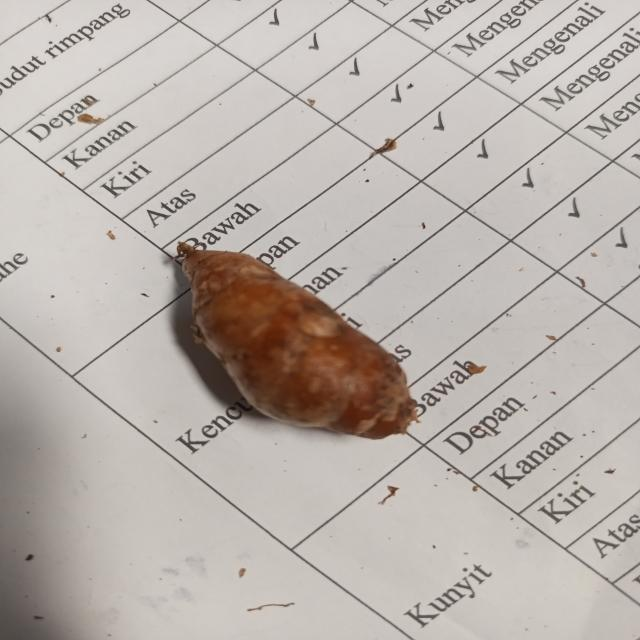ginger: (185, 240, 405, 437)
